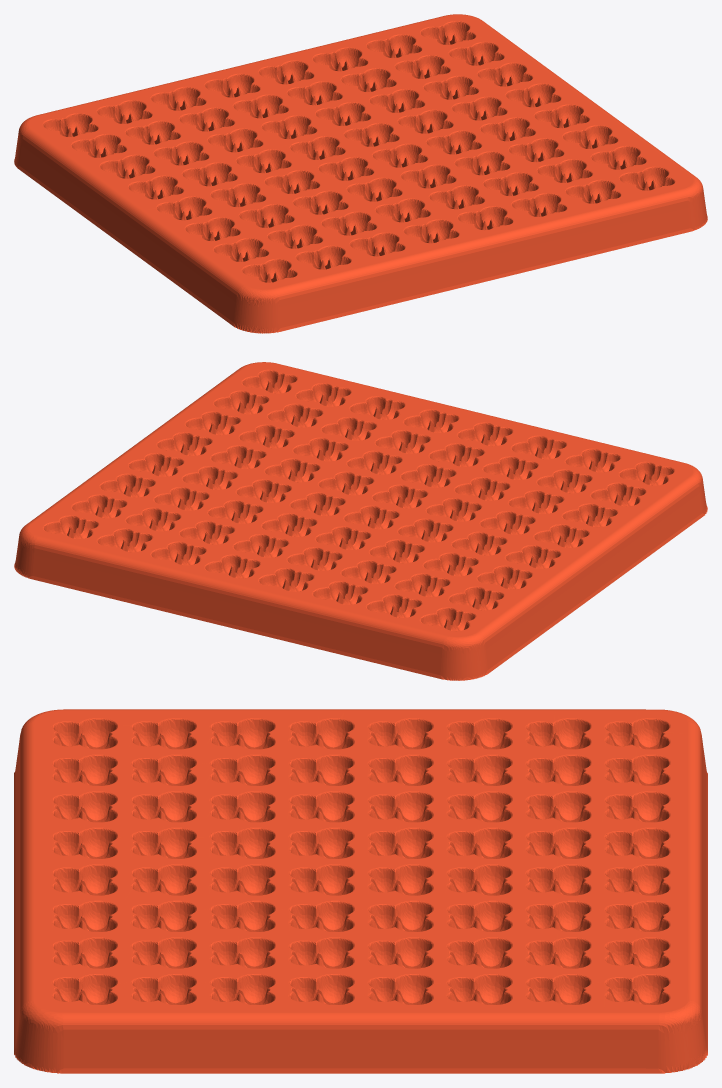
The model's file is mold.glb.
3 views of the same model, one above another, from view 1: azimuth 30°, elevation 25°; view 2: azimuth 150°, elevation 25°; view 3: azimuth 270°, elevation 25° (orthographic). The views are drawn at different scales.
Parts seen in each view (by area): view 1: geometry_0; view 2: geometry_0; view 3: geometry_0.
Part boxes in pixels (<box>): geometry_0: <box>14,14,707,333</box>; geometry_0: <box>14,362,707,680</box>; geometry_0: <box>14,709,707,1073</box>.
Bounding box in the file's own units: 0.1355 × 0.0104 × 0.1247.
